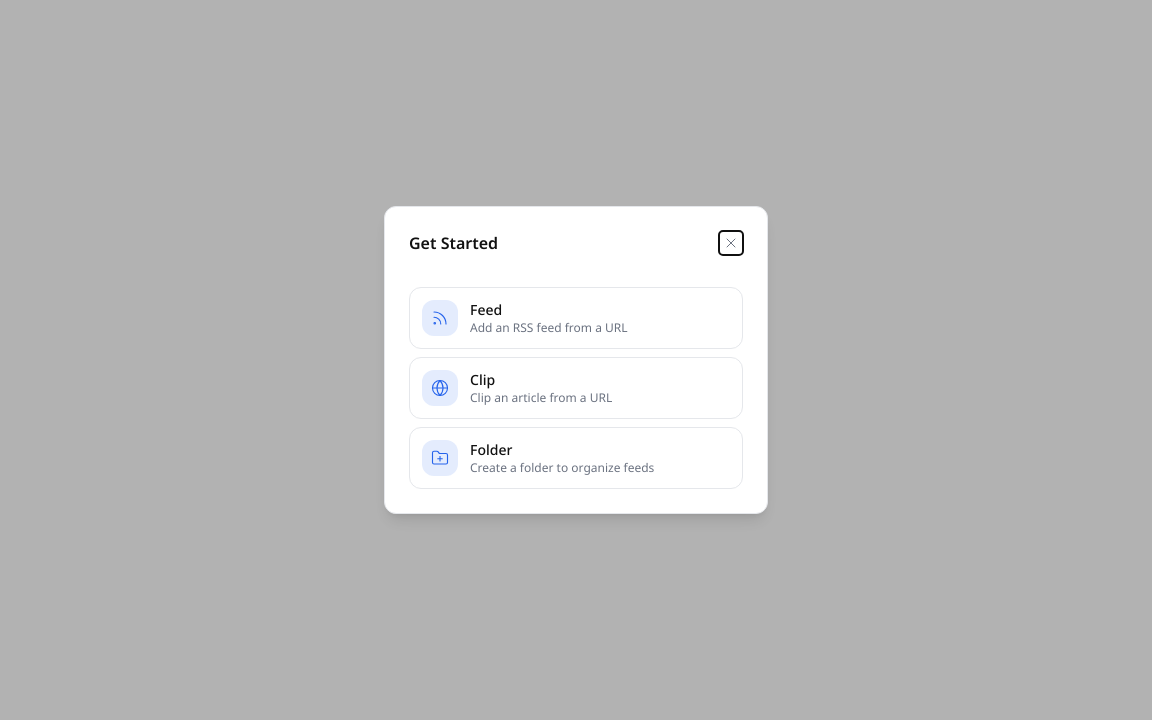
it: FeedModal › back button returns to select step
Click the text "Add an RSS feed from a URL".
click(549, 328)  # box [470,320,628,336]
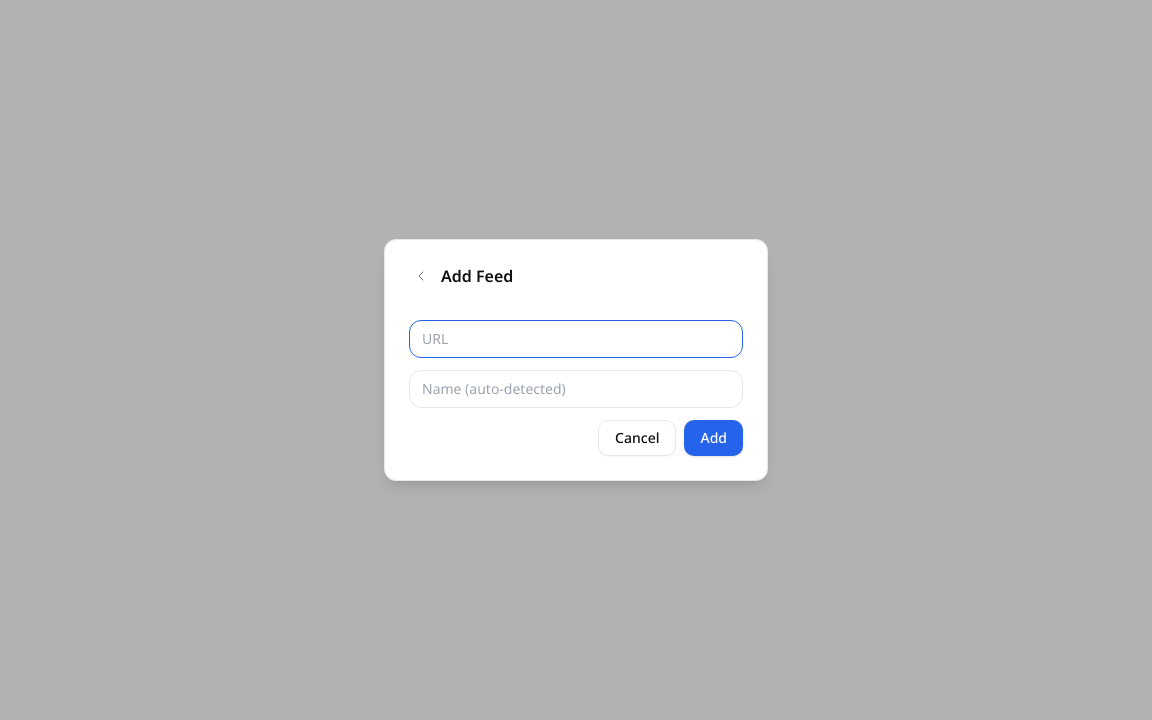
// Back button is the sibling before h2 within the flex container
Click the 1st button.
click(421, 276)  # box [409,264,433,288]
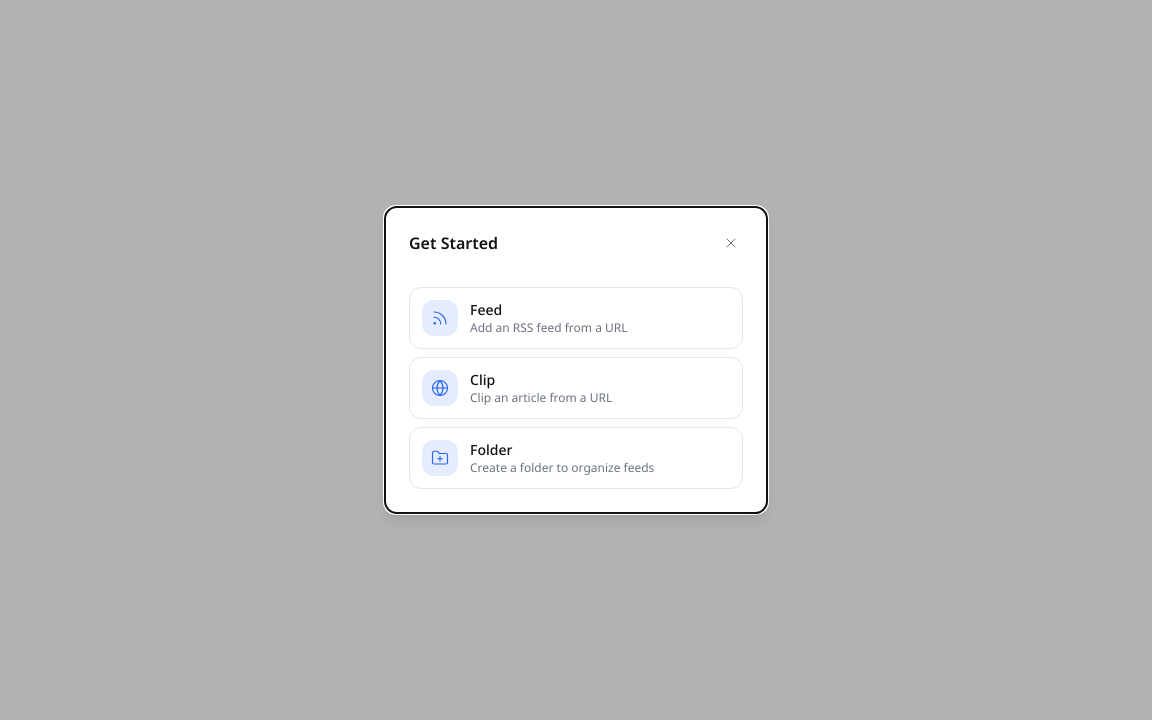
Expected: the heading "Get Started" is shown, [409,231,498,255]
